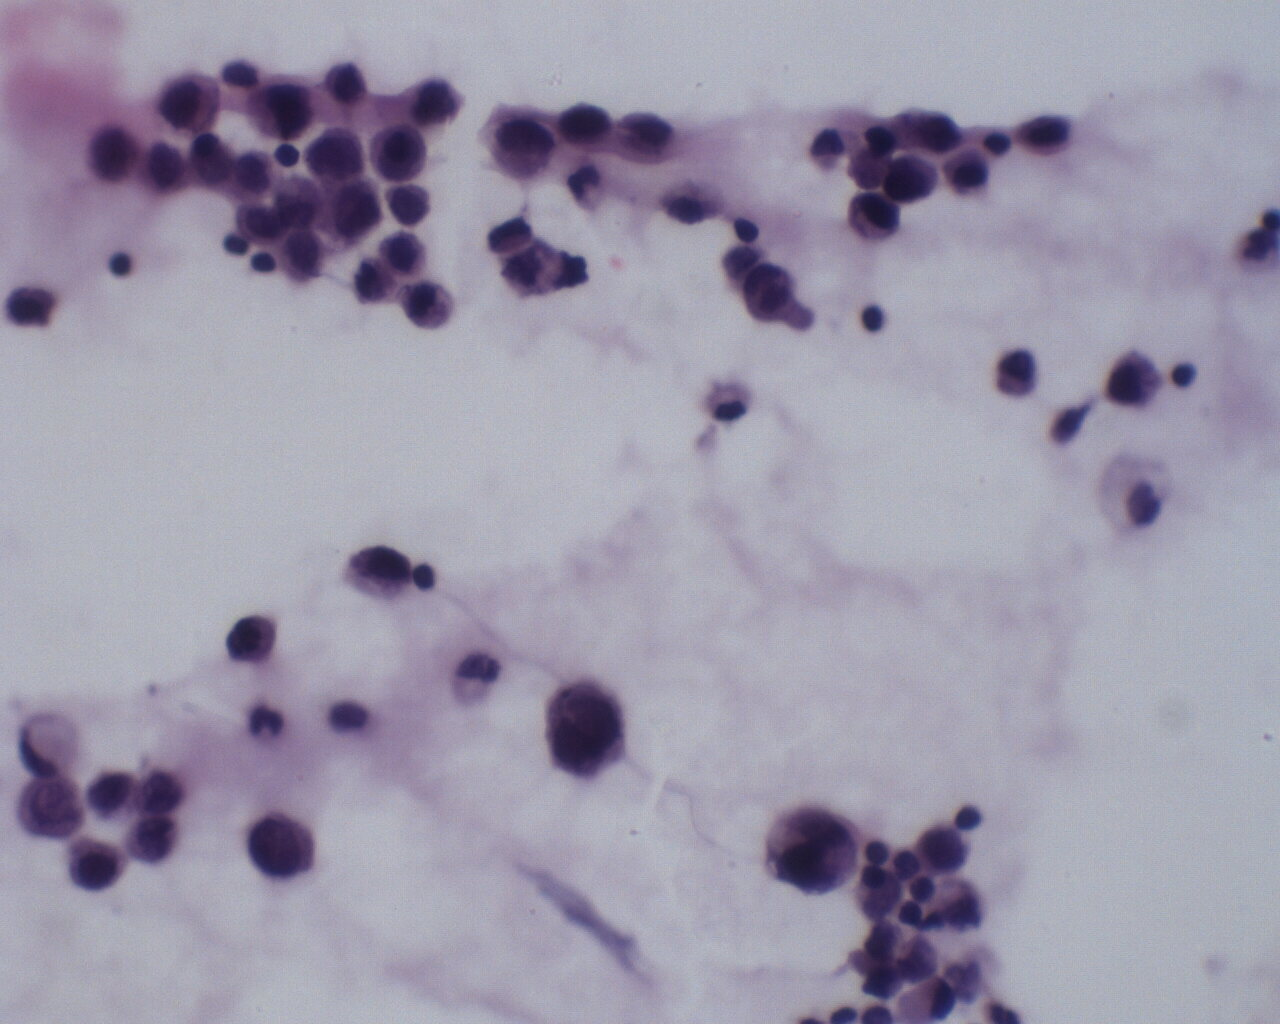ab: (541, 676, 635, 785), (764, 804, 858, 898), (245, 808, 324, 886), (16, 773, 93, 842), (155, 67, 226, 137), (245, 75, 316, 142), (485, 110, 554, 178), (609, 103, 679, 167), (323, 179, 387, 245), (368, 124, 433, 188), (220, 611, 288, 666), (87, 120, 141, 188), (67, 835, 127, 895), (306, 125, 371, 182), (555, 99, 615, 157), (880, 152, 940, 208), (405, 75, 466, 129), (122, 815, 180, 869), (4, 280, 56, 334), (278, 229, 324, 288), (233, 200, 284, 250), (376, 230, 429, 277), (385, 181, 432, 230)
histo: (14, 708, 88, 777)
lymph: (856, 298, 891, 339), (104, 250, 141, 285)
